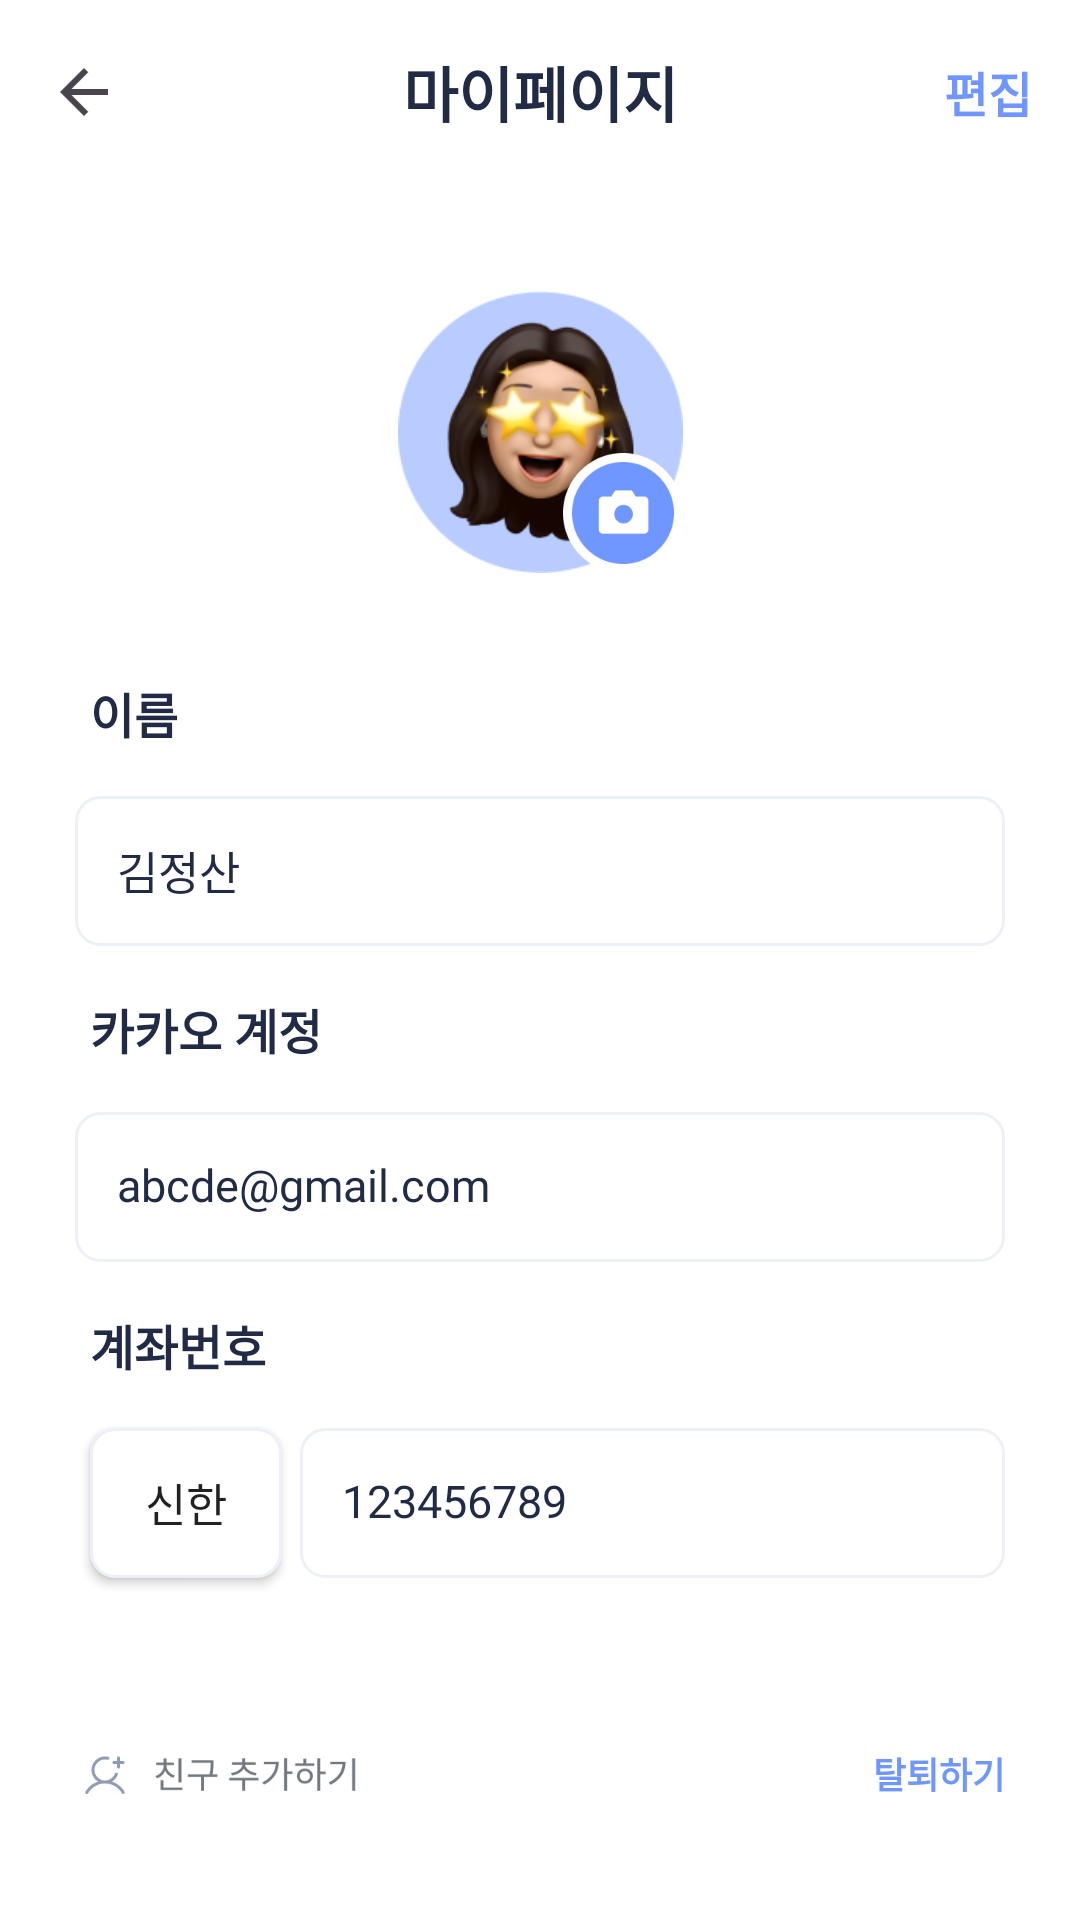

Named icons in this screenshot (1080 x 1920) and their centers, (x=x, y=y):
back arrow: (x=84, y=92)
